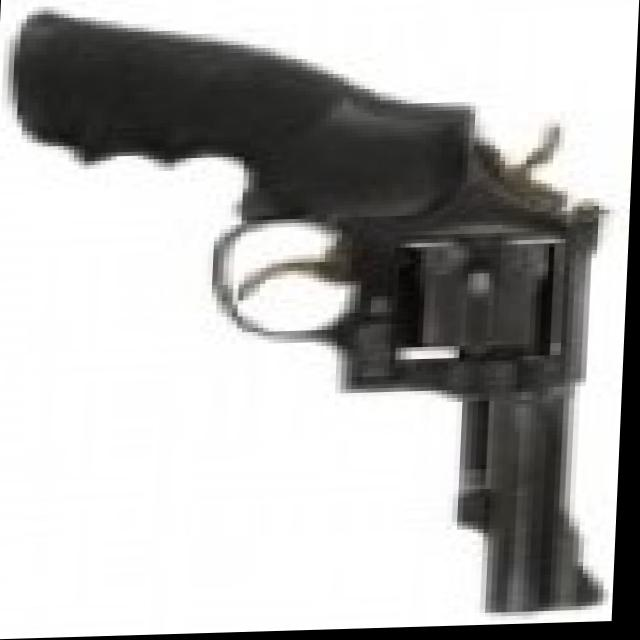handgun: (5, 0, 634, 615)
